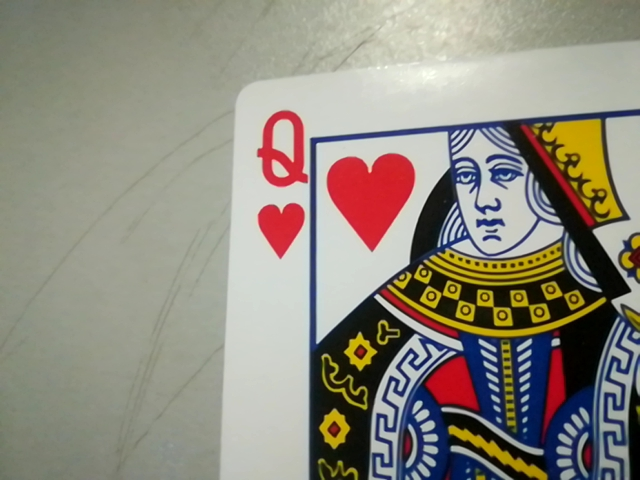hx q: (247, 102, 316, 262)
